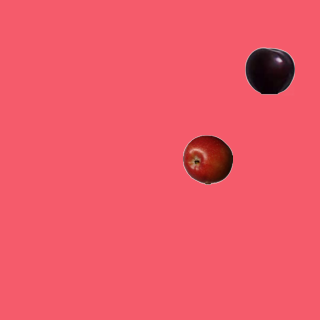Apple Braeburn: (182, 134, 232, 184)
Cherry Wax Black: (244, 45, 294, 95)
